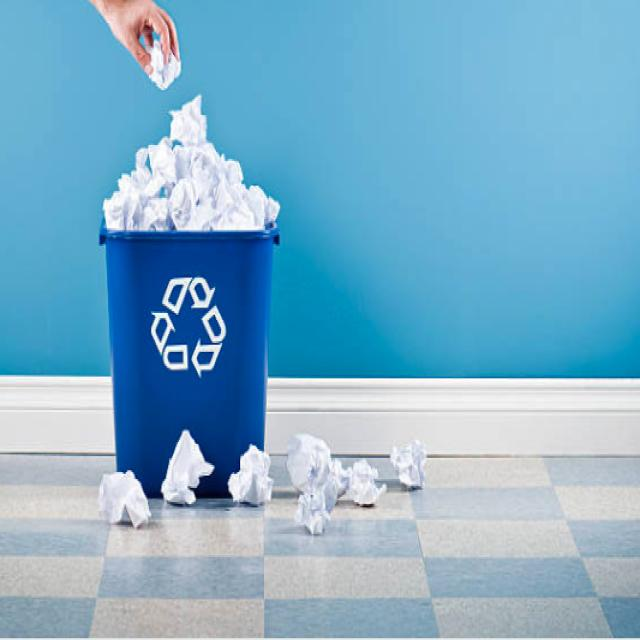KertasBekas: (97, 92, 281, 502), (101, 92, 280, 232)
